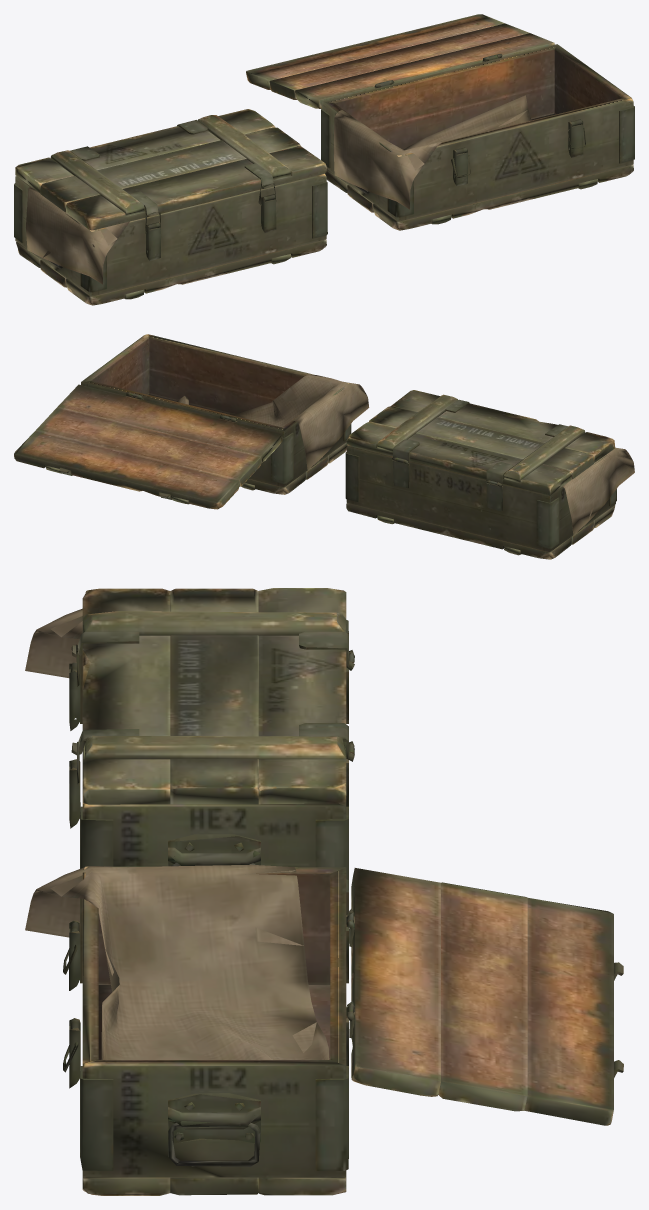
File: mil_crate.glb
3 views of the same model, one above another, from view 1: azimuth 30°, elevation 25°; view 2: azimuth 150°, elevation 25°; view 3: azimuth 270°, elevation 25° (orthographic). The views are drawn at different scales.
Parts seen in each view (by area): view 1: old_military_crate_lid_a; view 2: old_military_crate_lid_a; view 3: old_military_crate_lid_a.
Boxes of the visible parts, x1,y1,x2,y2 form: old_military_crate_lid_a: (14, 14, 634, 305); old_military_crate_lid_a: (14, 334, 634, 559); old_military_crate_lid_a: (25, 588, 623, 1195).
Size of the model in its own units: 1.81 by 0.3009 by 0.9758.
1 material, 1 textured.
